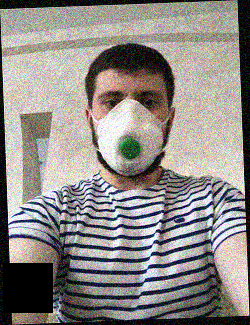with_mask: (93, 77, 168, 178)
